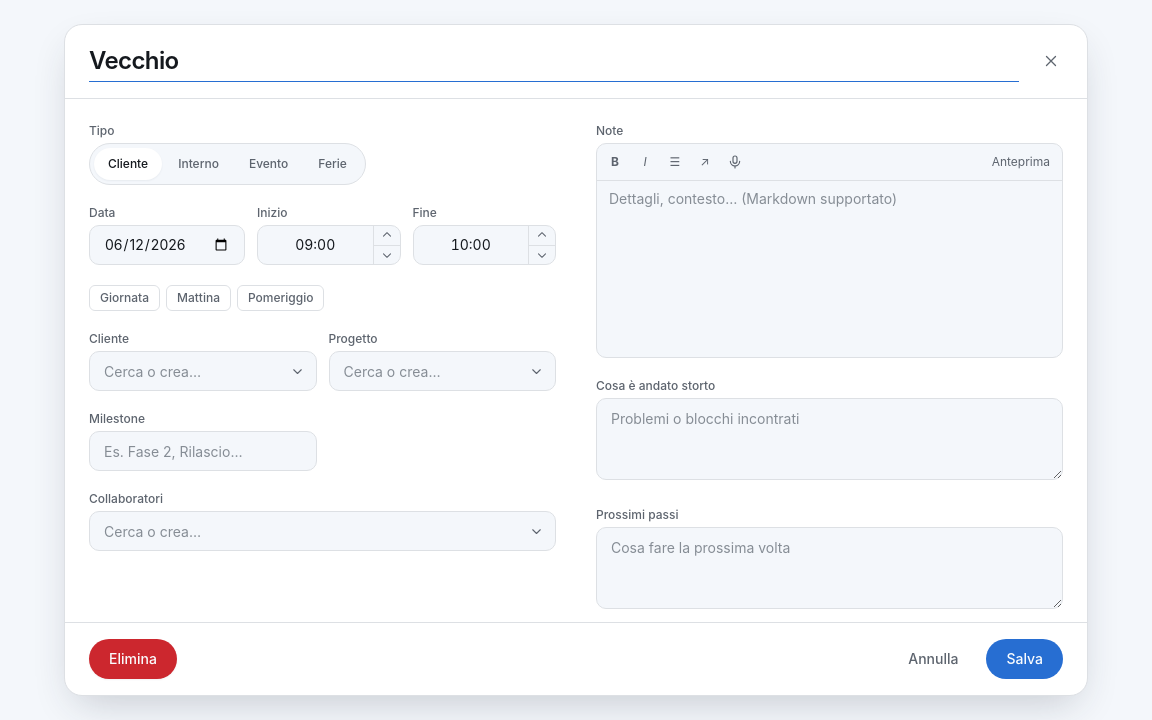
Test: EntryEditor › eliminazione: 'No' nella conferma non rimuove la entry
Click the button "Elimina" at [133, 659], box [89, 639, 177, 679]
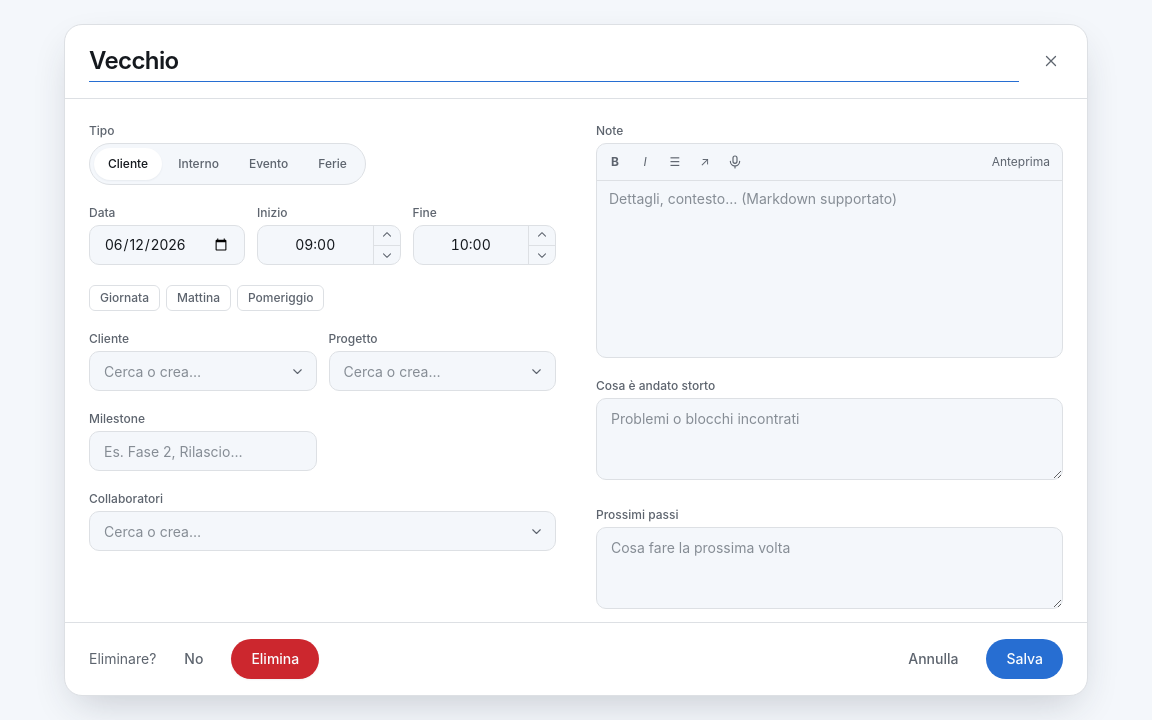
Click the button "No" at [194, 659], box [164, 639, 223, 679]
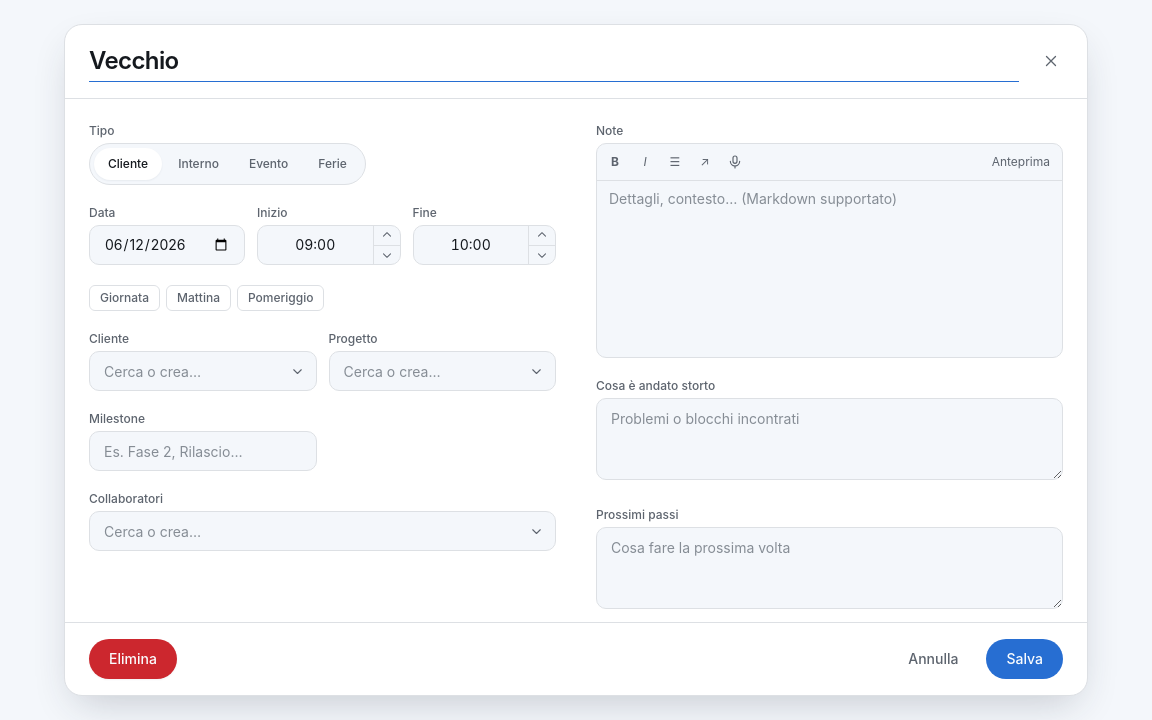
Check: the text "Eliminare?" is gone
